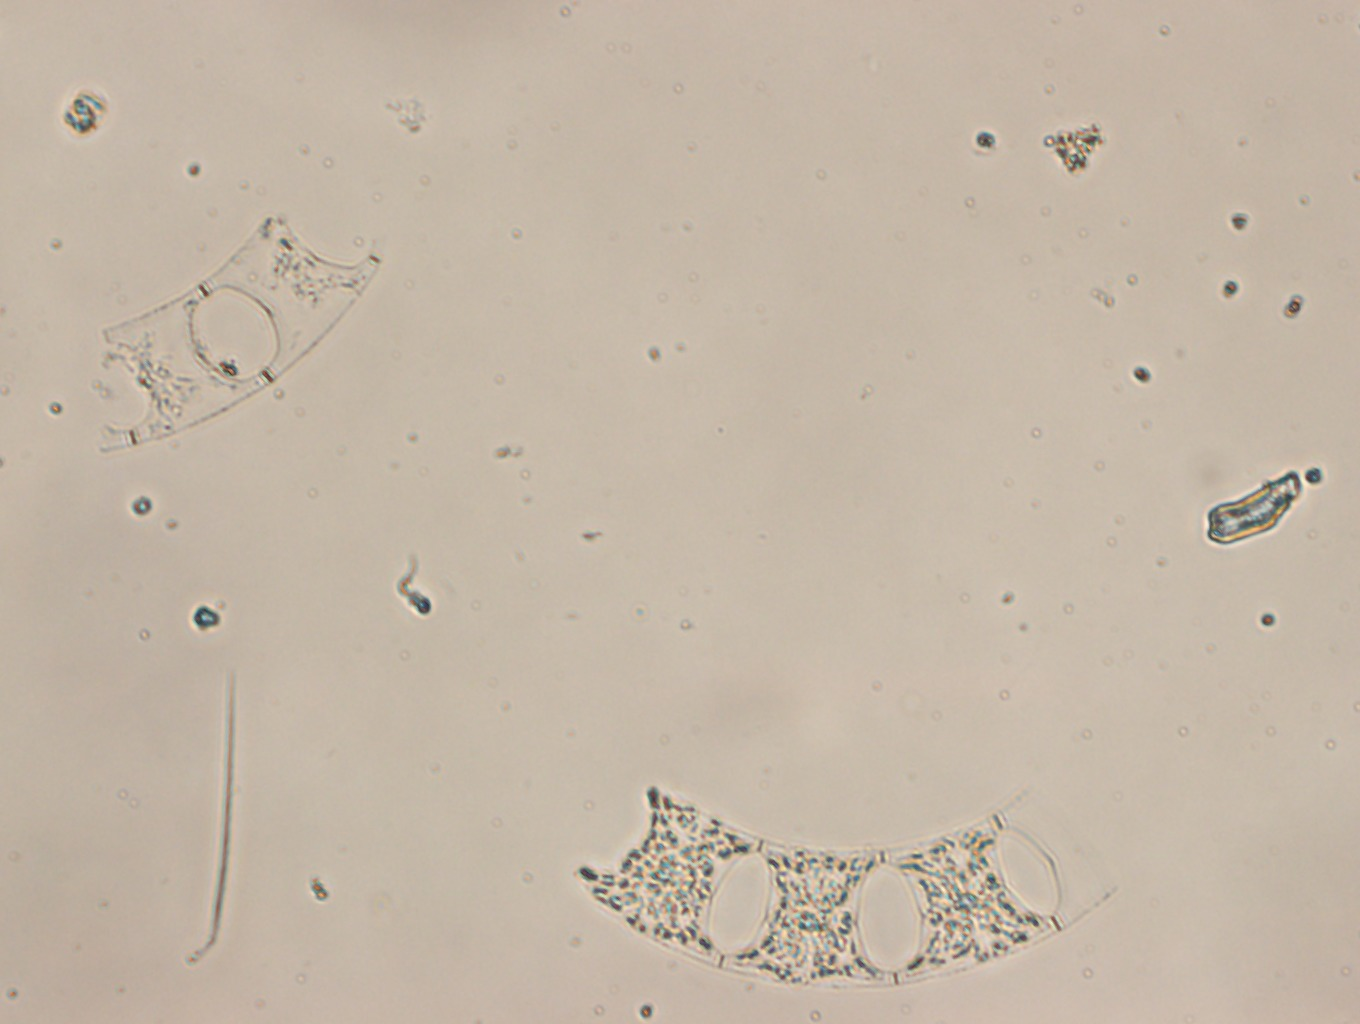eucampia: (572, 777, 1116, 991), (94, 208, 383, 452)
